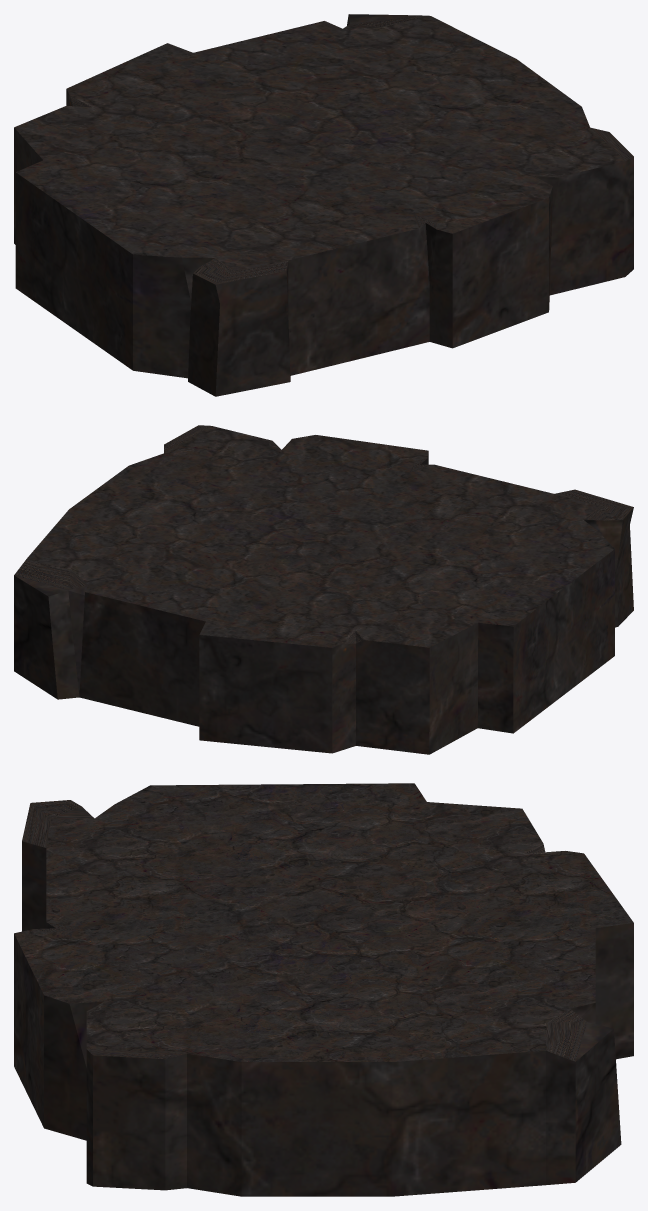
Rendered from BigRock_vulcanic.fbx.
3 views of the same model, one above another, from view 1: azimuth 30°, elevation 25°; view 2: azimuth 150°, elevation 25°; view 3: azimuth 270°, elevation 25° (orthographic). The views are drawn at different scales.
Visible parts, largest first — view 1: RockFlat_01; view 2: RockFlat_01; view 3: RockFlat_01.
Part boxes in pixels (left/top/right/bottom): RockFlat_01: left=14, top=14, right=633, bottom=396; RockFlat_01: left=14, top=425, right=633, bottom=754; RockFlat_01: left=14, top=783, right=633, bottom=1196.
Size of the model in its own units: 9598 by 2167 by 9018.
